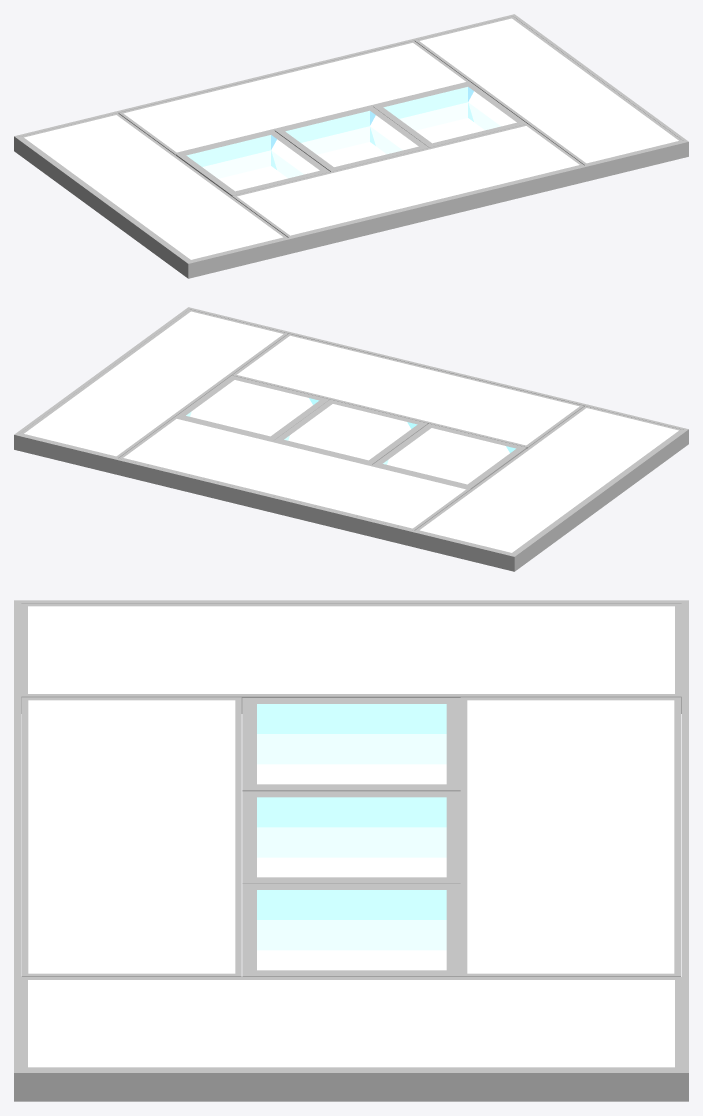
The model's file is nature-connect-new-fake-reflections.glb.
3 renders of one model, top to bottom at view 1: azimuth 30°, elevation 25°; view 2: azimuth 150°, elevation 25°; view 3: azimuth 270°, elevation 25°, orthographic. The views are drawn at different scales.
Parts seen in each view (by area): view 1: Obj_Big panel_2, Obj_Big panel_1, Window001 (×3), Obj_Big panel, Big panel, Frame; view 2: Obj_Big panel, Obj_Big panel_1, Obj_Big panel_2, Window001 (×3), Big panel, Frame; view 3: Big panel, Obj_Big panel, Obj_Big panel_1, Obj_Big panel_2, Window001 (×3), Frame.
Boxes of the visible parts, x1,y1,x2,y2 form: Obj_Big panel_2: (414, 16, 683, 165); Obj_Big panel_1: (118, 41, 470, 155); Window001 (×3): (176, 82, 526, 196); Obj_Big panel: (232, 124, 583, 237); Big panel: (20, 113, 287, 261); Frame: (14, 14, 688, 278); Obj_Big panel: (232, 334, 584, 448); Obj_Big panel_1: (119, 417, 470, 530); Obj_Big panel_2: (19, 309, 288, 458); Window001 (×3): (176, 375, 526, 489); Big panel: (415, 406, 682, 554); Frame: (14, 307, 688, 571); Big panel: (21, 603, 681, 713); Obj_Big panel: (21, 697, 241, 976); Obj_Big panel_1: (460, 697, 680, 976); Obj_Big panel_2: (21, 977, 681, 1069); Window001 (×3): (242, 698, 461, 976); Frame: (14, 600, 688, 1101).
Bounding box in the file's own units: 3.05 × 0.1952 × 1.84.
